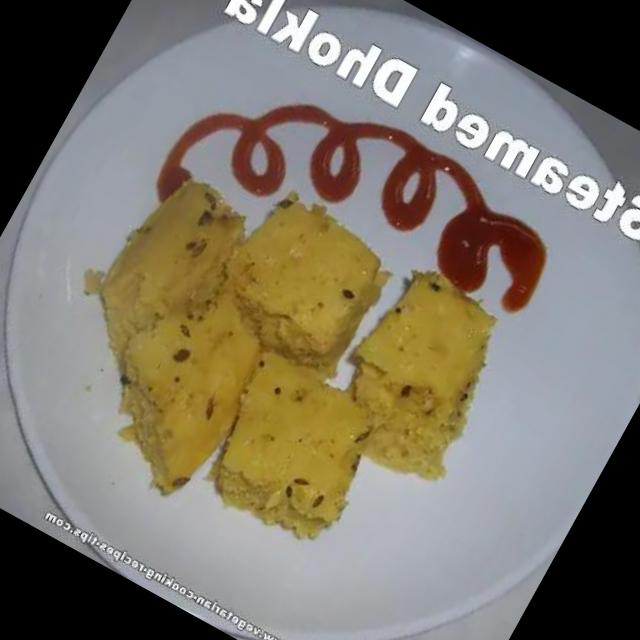dhokla: (17, 108, 526, 590)
